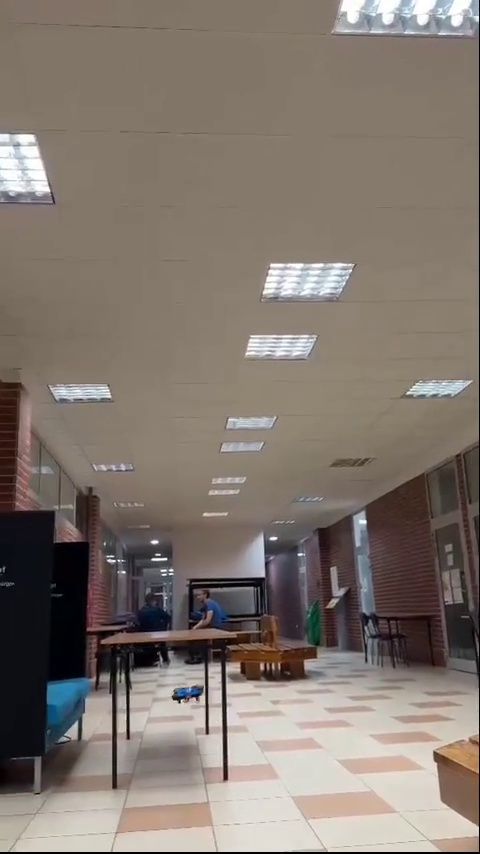drone: (172, 686, 203, 702)
no vest: (193, 586, 231, 636), (142, 592, 171, 631)
